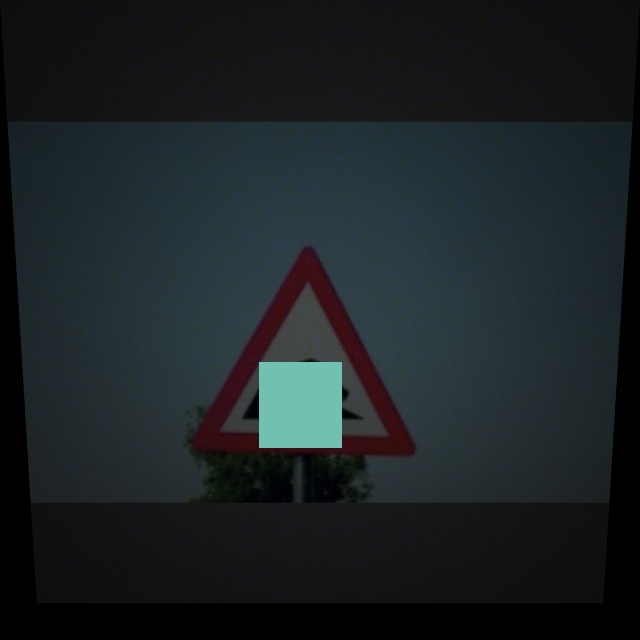Steep_Descent: (188, 246, 424, 463)
